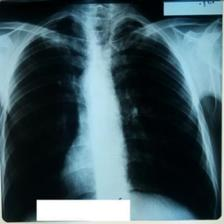tuberculosis: (4, 14, 219, 222)
